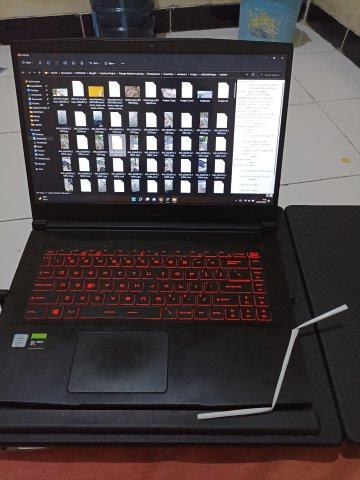sedotan: (198, 306, 348, 419)
